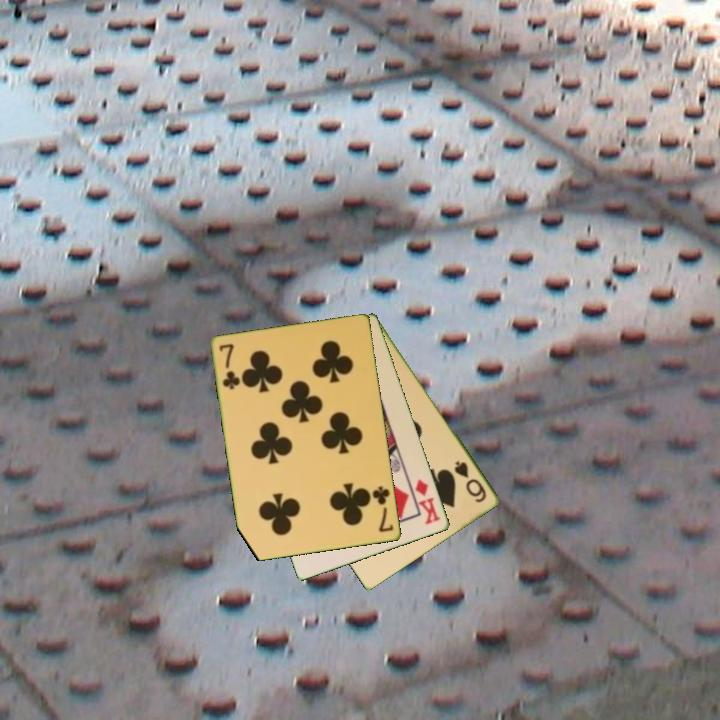6s: (451, 458, 490, 506)
7c: (369, 483, 396, 535), (216, 340, 242, 393)
Kd: (412, 475, 444, 528)
